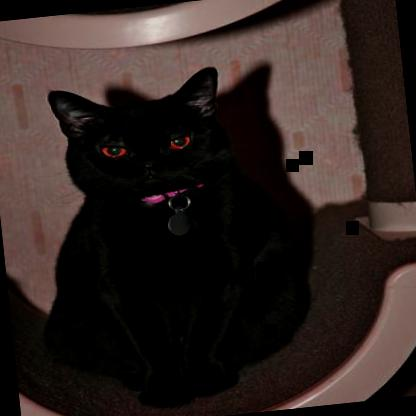cat: (19, 57, 321, 415)
